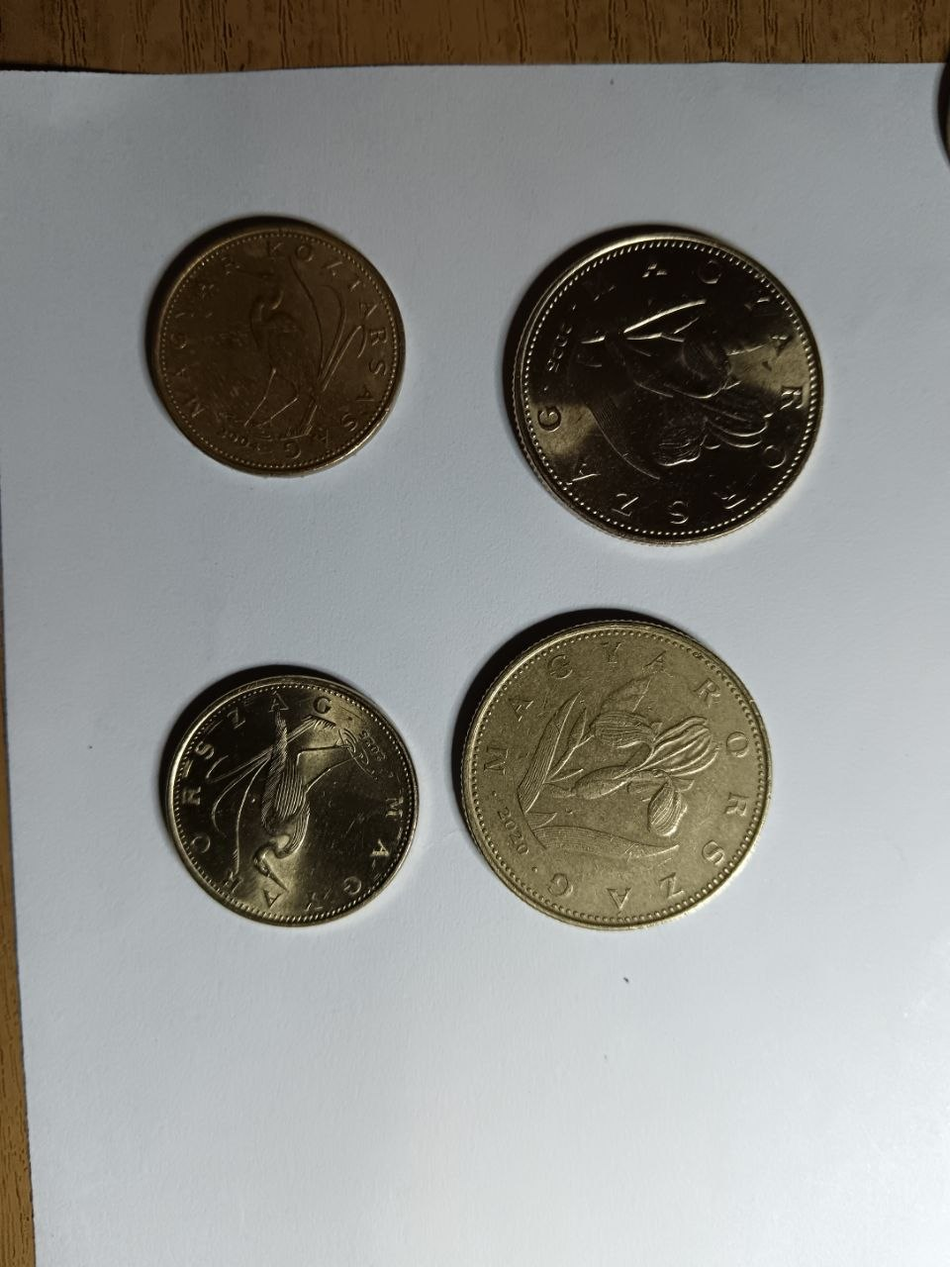20ft: (513, 231, 821, 548), (470, 620, 769, 919)
5ft: (162, 673, 417, 928), (151, 227, 406, 473)
